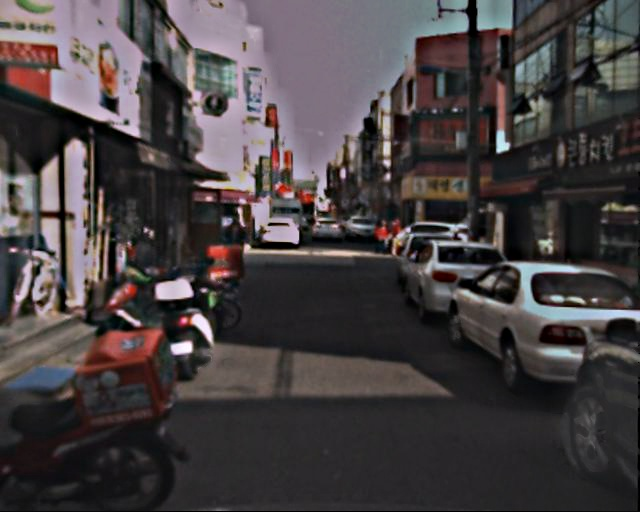person: (219, 210, 253, 294), (374, 218, 390, 257), (389, 218, 405, 257)
